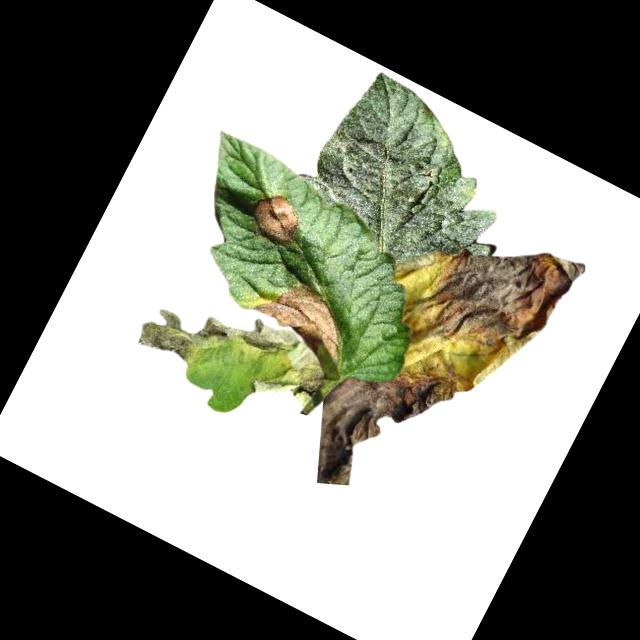Late_blight: (400, 200, 595, 390), (287, 332, 466, 523), (132, 269, 338, 429), (248, 267, 368, 365), (243, 187, 312, 253)
